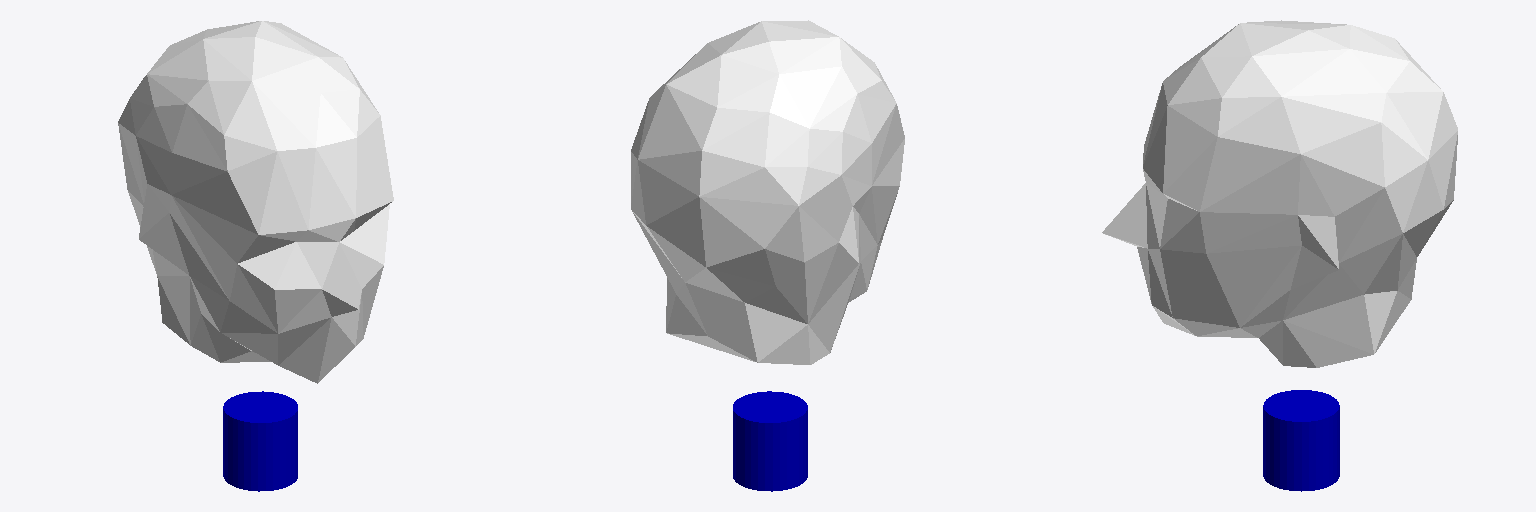
URDF robot description (/* robot_name */):
<?xml version="1.0"?>
<robot name="/* robot_name */">

  <material name="blue">
    <color rgba="0 0 0.8 1"/>
  </material>

  <material name="white">
    <color rgba="1 1 1 1"/>
  </material>


  <link name="base_link">
    <visual>
      <geometry>
        <cylinder length="0.2" radius="0.2"/>
      </geometry>
      <material name="blue"/>
    </visual>
   </link>

  <link name="base_link2">
    <visual>
      <geometry>
        <cylinder length="0.2" radius="0.2"/>
      </geometry>
      <material name="blue"/>
    </visual>
  </link>

  
    <joint name="pitch" type="continuous">
    <parent link="base_link"/>
    <child link="base_link2"/>
    <axis xyz="-1.0 0.0 0.0"/>
    <origin xyz="0 0 0.1"/>
  </joint>

  <link name="base_link3">
    <visual>
      <geometry>
        <cylinder length="0.2" radius="0.2"/>
      </geometry>
      <material name="blue"/>
    </visual>
    </link>

  <joint name="yaw" type="continuous">
    <parent link="base_link2"/>
    <child link="base_link3"/>
    <axis xyz="0.0 1.0 0.0"/>
    <origin xyz="0 0 0.1"/>
  </joint>

  <link name="head">
    <visual>
      <geometry>
        <mesh filename="package://IMU_ADQ_pck/urdf/mesh/human-head-simplified.dae" scale="0.008 0.008 0.008"/>
      </geometry>
      <origin rpy="0 0 0" xyz="0 0 0.3"/>
      <material name="white"/>
    </visual>
  </link>


  <joint name="roll" type="continuous">
    <parent link="base_link3"/>
    <child link="head"/>
    <origin xyz="0 0 1.0"/>
    <axis xyz="0.0 0.0 1.0"/>
  </joint>

</robot>

--- What the picture shows (computed from the rendered views, not written in the file) ---
The picture shows the robot from 3 angles, left to right: view 1: azimuth 30°, elevation 25°; view 2: azimuth 150°, elevation 25°; view 3: azimuth 270°, elevation 25°; orthographic projection.
Robot: /* robot_name */ — 4 links, 3 joints (3 continuous); root link base_link; default pose: every joint at zero.
Visible links, largest first — view 1: head, base_link3, base_link, base_link2; view 2: head, base_link3, base_link, base_link2; view 3: head, base_link3, base_link2, base_link.
Link boxes in pixels (box(x1,y1,x2,y2)): head: box(118, 21, 393, 383); base_link3: box(223, 391, 297, 456); base_link: box(223, 443, 297, 491); base_link2: box(223, 430, 297, 473); head: box(631, 20, 904, 364); base_link3: box(733, 391, 807, 456); base_link: box(733, 444, 807, 491); base_link2: box(734, 428, 807, 473); head: box(1102, 20, 1457, 367); base_link3: box(1263, 390, 1339, 456); base_link2: box(1263, 425, 1339, 473); base_link: box(1263, 445, 1339, 491).
Size in the robot's own frame: 1.31 by 1.86 by 2.56 metres.
Meshes: 1 distinct files referenced, 1 mesh visuals loaded (1 Collada DAE).